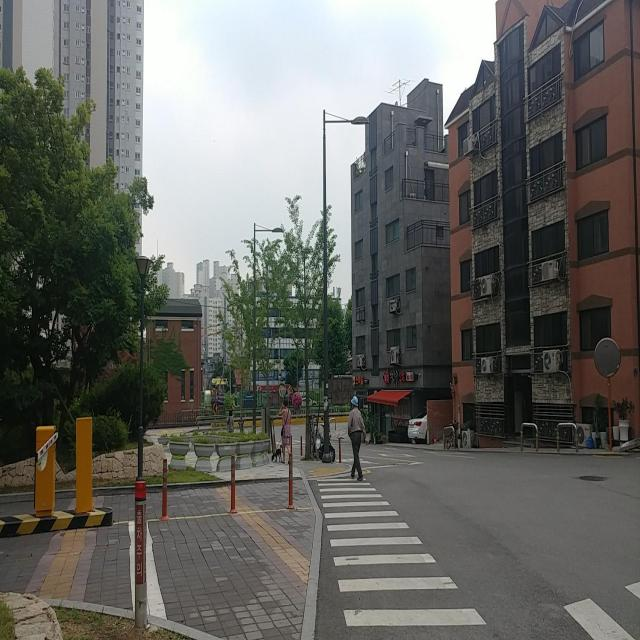횡단보도: (314, 474, 489, 630)
